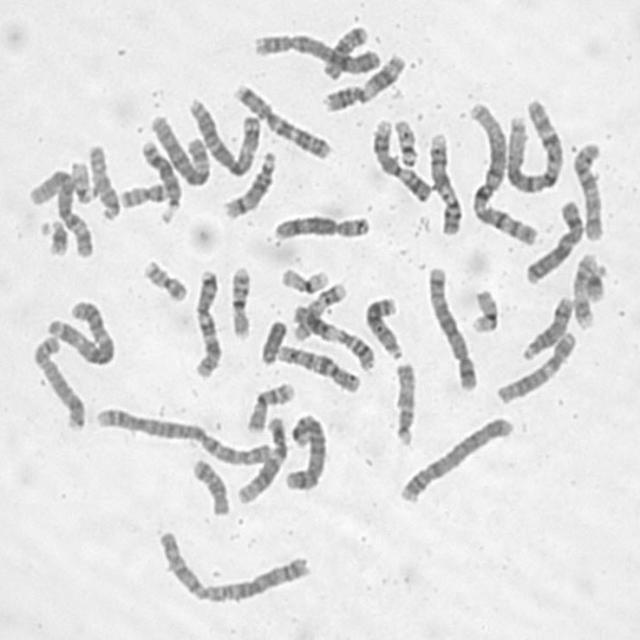A1: (465, 103, 540, 247), (501, 98, 565, 195)
A2: (153, 527, 314, 605), (92, 404, 272, 467)
A3: (185, 94, 262, 178), (44, 296, 116, 366)
B4: (395, 412, 516, 507), (249, 29, 381, 74)
B5: (425, 263, 479, 392), (283, 410, 328, 492)
C10: (274, 341, 363, 395), (571, 138, 605, 242)
C11: (290, 301, 376, 373), (319, 50, 408, 114)
C12: (494, 329, 578, 405), (234, 414, 284, 500)
C6: (26, 164, 95, 260), (146, 112, 212, 188)
C7: (230, 79, 333, 161), (191, 266, 223, 380)
C8: (31, 333, 87, 430), (271, 211, 373, 243)
C9: (368, 126, 428, 204), (426, 129, 464, 237)
D13: (138, 137, 183, 224), (362, 294, 405, 361)
D14: (519, 293, 576, 361), (220, 148, 266, 220)
D15: (87, 141, 121, 223), (391, 358, 418, 448)
E16: (244, 379, 296, 433), (227, 263, 254, 340)
E17: (288, 279, 348, 343), (569, 250, 599, 331)
E18: (319, 22, 369, 81), (189, 455, 232, 516)
F19: (278, 264, 330, 296), (469, 286, 501, 336)
F20: (141, 257, 190, 302), (117, 179, 168, 210)
G21: (38, 214, 70, 260), (583, 262, 608, 304)
G22: (392, 116, 420, 168), (69, 158, 98, 205)
X: (522, 196, 586, 284)
Y: (256, 315, 289, 366)
